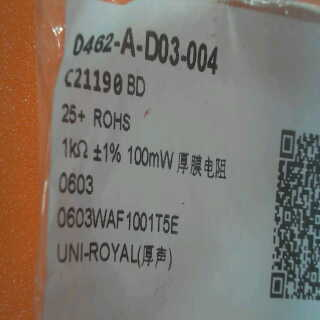1kR: (55, 139, 92, 158)
